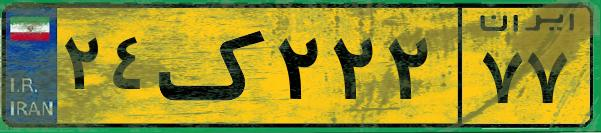2: (270, 28, 330, 110), (385, 28, 445, 110), (330, 28, 385, 110), (57, 26, 110, 100)
4: (110, 28, 158, 98)
7: (475, 38, 525, 113), (525, 38, 570, 115)
ک: (158, 12, 270, 120)
